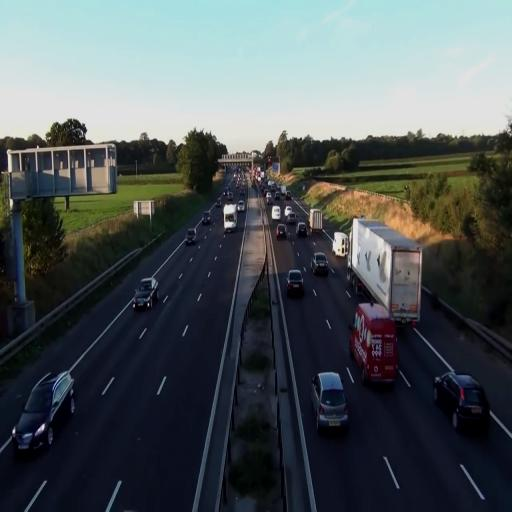vehicle: (346, 216, 422, 327), (12, 370, 74, 456), (348, 302, 398, 388), (433, 372, 490, 432), (315, 379, 349, 434), (133, 278, 158, 313), (139, 277, 159, 310), (286, 268, 304, 298), (311, 252, 330, 278), (223, 203, 237, 231), (185, 230, 196, 244)
